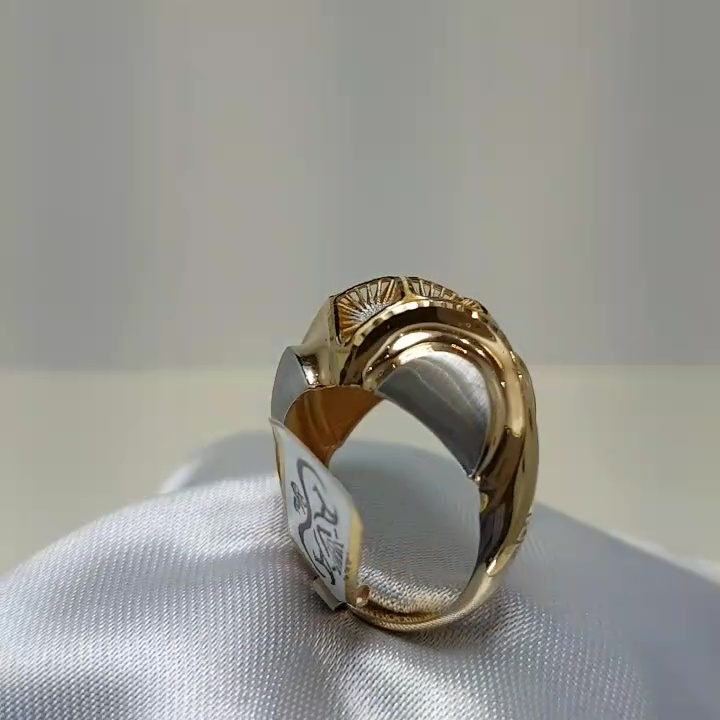Ring 2: (205, 267, 556, 663)
